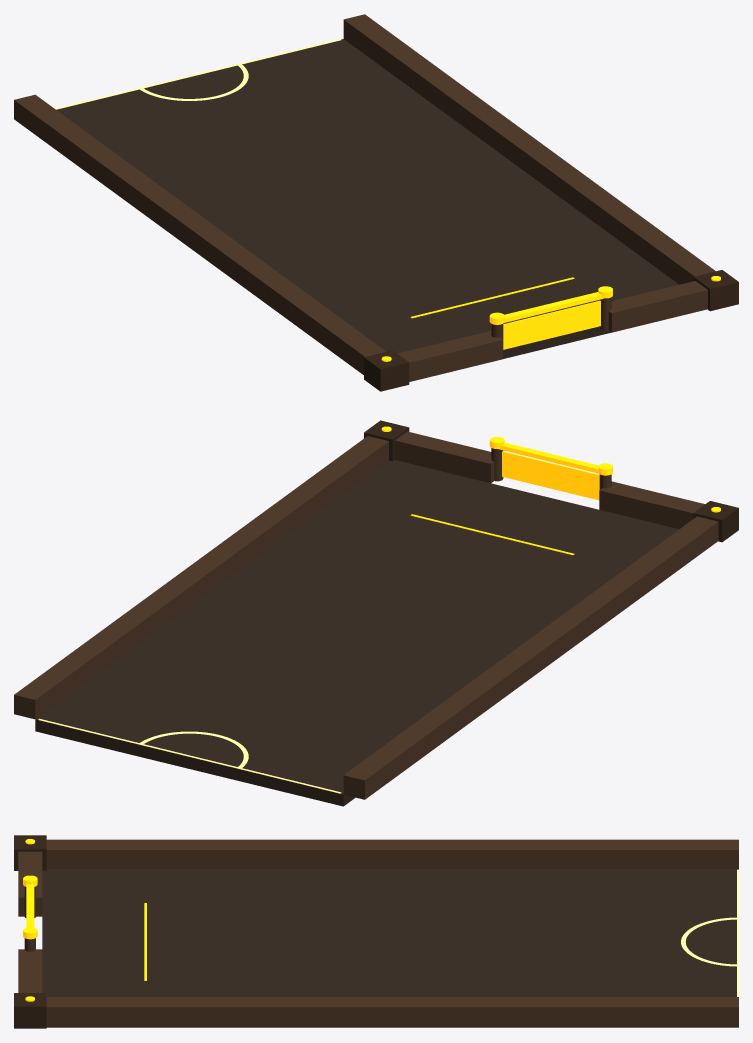
Rendered from mesa_wasteland_apocalypse_half_p1.glb.
3 renders of one model, top to bottom at view 1: azimuth 30°, elevation 25°; view 2: azimuth 150°, elevation 25°; view 3: azimuth 270°, elevation 25°, orthographic. The views are drawn at different scales.
Visible parts, largest first — view 1: WastelandHalfP1_Surface, WastelandHalfP1_RailL, WastelandHalfP1_RailR, Cube.004, Cube.002, Cube.009, Cube.006, Cube.007, Cube.008, WastelandHalfP1_TopEdgeLaser; view 2: WastelandHalfP1_Surface, WastelandHalfP1_RailL, WastelandHalfP1_RailR, Cube.004, Cube.002, Cube.009, Cube.006, Cube.008, Cube.007, WastelandHalfP1_TopEdgeLaser; view 3: WastelandHalfP1_Surface, WastelandHalfP1_RailL, WastelandHalfP1_RailR, Cube.002, Cube.007, Cube.004, Cube.006, WastelandHalfP1_CenterArcOuter, Cube.008.
Part boxes in pixels (box(x1,y1,x2,y2)): WastelandHalfP1_Surface: box(56, 39, 678, 358); WastelandHalfP1_RailL: box(14, 94, 385, 374); WastelandHalfP1_RailR: box(343, 14, 715, 284); Cube.004: box(608, 281, 707, 332); Cube.002: box(397, 331, 503, 381); Cube.009: box(503, 300, 600, 349); Cube.006: box(364, 350, 409, 391); Cube.007: box(693, 270, 738, 311); Cube.008: box(504, 292, 603, 322); WastelandHalfP1_TopEdgeLaser: box(55, 39, 341, 109); WastelandHalfP1_Surface: box(35, 460, 678, 806); WastelandHalfP1_RailL: box(343, 516, 718, 799); WastelandHalfP1_RailR: box(14, 436, 388, 719); Cube.004: box(395, 431, 494, 483); Cube.002: box(599, 481, 704, 529); Cube.009: box(502, 451, 599, 500); Cube.006: box(693, 501, 738, 542); Cube.008: box(499, 442, 598, 473); Cube.007: box(364, 420, 409, 461); WastelandHalfP1_TopEdgeLaser: box(38, 718, 341, 793); WastelandHalfP1_Surface: box(42, 869, 738, 1027); WastelandHalfP1_RailL: box(46, 839, 738, 868); WastelandHalfP1_RailR: box(46, 997, 738, 1026); Cube.002: box(18, 851, 42, 916); Cube.007: box(14, 993, 46, 1028); Cube.004: box(18, 949, 42, 992); Cube.006: box(14, 835, 46, 870); WastelandHalfP1_CenterArcOuter: box(681, 917, 736, 966); Cube.008: box(26, 884, 34, 927).
Size of the model in its own units: 1.26 by 0.17 by 2.25.
